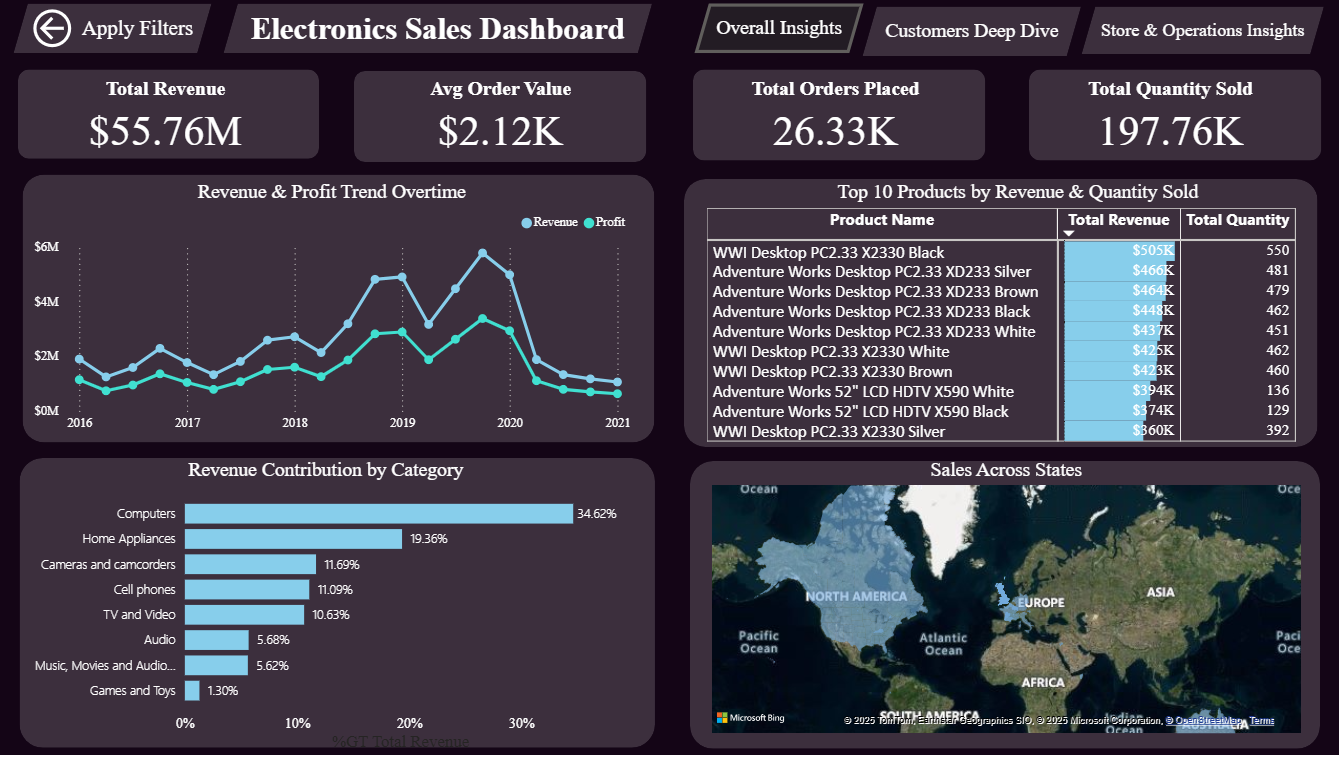

The page's visual inventory and layout, read from the dashboard file:
{"tool":"powerbi","page":{"name":"Overall Insights","canvas":[1280,720],"ordinal":0},"visuals":[{"type":"group","id":"g1","title":"Card Bg","box":[19.9,66.5,1241.8,87.4],"z":0},{"type":"shape","box":[340.5,67.3,278.3,86.7],"z":0,"group":"g1"},{"type":"shape","box":[19.1,162.7,602.5,255],"z":0,"group":"g2"},{"type":"actionButton","box":[1032.9,6.5,231,45.5],"z":1000},{"type":"shape","box":[19.9,66.5,286.7,85],"z":1000,"group":"g1"},{"type":"shape","box":[658.3,162.7,602.5,255],"z":1000,"group":"g2"},{"type":"actionButton","box":[824.7,6.5,208.2,47.2],"z":2000},{"type":"shape","box":[983.4,66.7,278.3,86.7],"z":2000,"group":"g1"},{"type":"shape","box":[16.3,433.8,605.8,275],"z":2000,"group":"g2"},{"type":"shape","box":[663.4,66.7,278.3,86.7],"z":3000,"group":"g1"},{"type":"group","id":"g2","title":"Visual Bg","box":[16.3,162.7,1244.3,546.5],"z":3000},{"type":"shape","box":[660.7,433.8,600.8,273.3],"z":3000,"group":"g2"},{"type":"cardVisual","fields":{"Data":["Orders data.Total Revenue","Orders data.Profit","Orders data.Total Orders","Orders data.Total Quantity"]},"box":[0,58.3,1280,93.3],"z":4000},{"type":"lineChart","title":"Quarterly Revenue & Profit Trend","fields":{"Category":["Orders data.Order Date.Variation.Date Hierarchy.Year","Orders data.Order Date.Variation.Date Hierarchy.Quarter","Orders data.Order Date.Variation.Date Hierarchy.Month","Orders data.Order Date.Variation.Date Hierarchy.Day"],"Y":["Orders data.Total Revenue","Orders data.Profit"]},"box":[29.3,167.5,577.4,245.6],"z":5000},{"type":"clusteredBarChart","title":"Revenue Contribution by Category","fields":{"Category":["Product data.Category"],"Y":["Orders data.Total Revenue"]},"box":[17.9,437.5,588.8,283],"z":6000},{"type":"filledMap","title":"Sales Across States","fields":{"Category":["Customer data.State"]},"box":[675,437.5,570.9,266.8],"z":7000},{"type":"pivotTable","title":"Top 10 Products by Revenue & Quantity Sold","fields":{"Rows":["Product data.Product Name"],"Values":["Orders data.Total Revenue","Orders data.Total Quantity"]},"box":[675,162.7,593.7,266.8],"z":8000},{"type":"actionButton","box":[16.3,4.9,188.7,47.2],"z":10000},{"type":"actionButton","box":[216.3,4.9,408.3,47.2],"z":11000},{"type":"actionButton","box":[663.6,4.9,161,47.2],"z":12000}]}

Visuals, with their boxes in screenshot pixels (x1, y1, x2, y2), scaled from the page's 1280x720 canvas onto the 1339x757 screenshot:
"Card Bg" group: <region>21, 70, 1320, 162</region>
shape: <region>356, 71, 647, 162</region>
shape: <region>20, 171, 650, 439</region>
actionButton: <region>1081, 7, 1322, 55</region>
shape: <region>21, 70, 321, 159</region>
shape: <region>689, 171, 1319, 439</region>
actionButton: <region>863, 7, 1081, 56</region>
shape: <region>1029, 70, 1320, 161</region>
shape: <region>17, 456, 651, 745</region>
shape: <region>694, 70, 985, 161</region>
"Visual Bg" group: <region>17, 171, 1319, 746</region>
shape: <region>691, 456, 1320, 743</region>
cardVisual - Orders data.Total Revenue x Orders data.Profit: <region>0, 61, 1338, 159</region>
"Quarterly Revenue & Profit Trend" lineChart: <region>31, 176, 635, 434</region>
"Revenue Contribution by Category" clusteredBarChart: <region>19, 460, 635, 756</region>
"Sales Across States" filledMap: <region>706, 460, 1303, 740</region>
"Top 10 Products by Revenue & Quantity Sold" pivotTable: <region>706, 171, 1327, 452</region>
actionButton: <region>17, 5, 214, 55</region>
actionButton: <region>226, 5, 653, 55</region>
actionButton: <region>694, 5, 863, 55</region>
